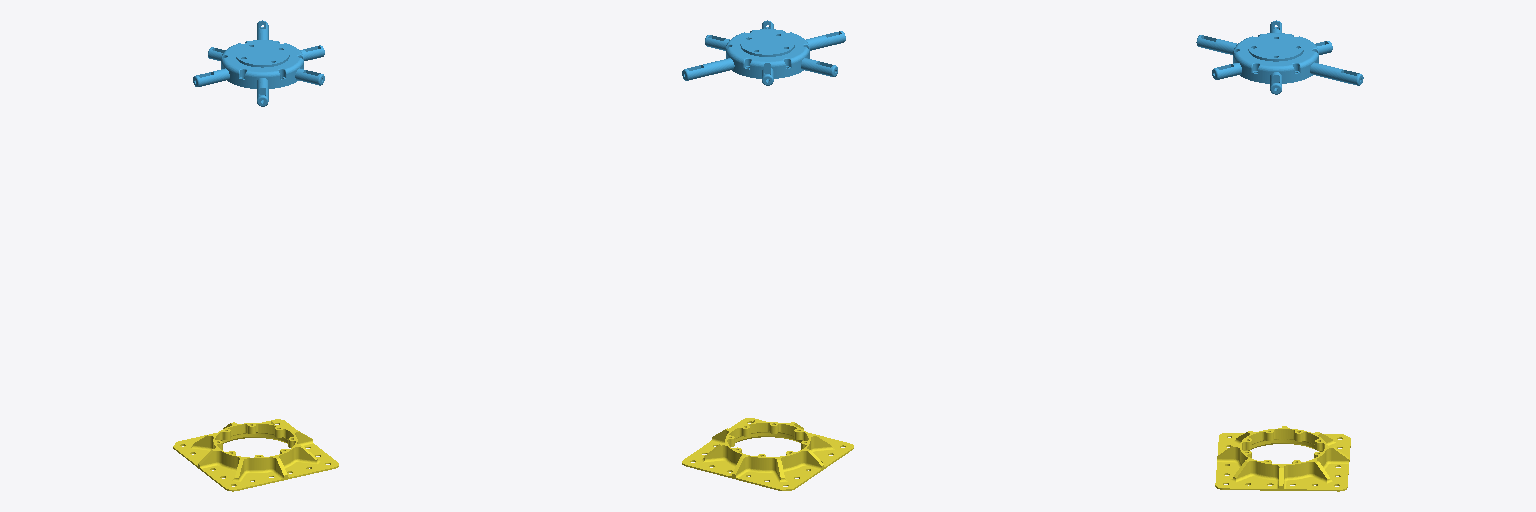
The robot description file, URDF, robot "locarm":
<?xml version="1.0" ?>
<!-- =================================================================================== -->
<!-- |    This document was autogenerated by xacro from vispa.xacro                    | -->
<!-- |    EDITING THIS FILE BY HAND IS NOT RECOMMENDED                                 | -->
<!-- =================================================================================== -->
<!--
   Copyright (C) [author] and Space Ltd - All Rights Reserved
   Written by [author] <[email redacted]>, January 2021

This is the master Locarm AD model file, in form of a XACRO macro.
To build the URDF file, invoke:
  rosrun xacro xacro.py locarm.xacro > locarm.urdf
  TODO: make this part of a build process
Joint FORs are consistent with LOCARM specification .
Joint FOR locations as well as arm dimensions have been cross-checked with arm specification.
Joint torques have been taken from arm specification.
Element masses have been taken from arm specification; inertia matrices have been generated with Meshlab (TODO).
(see http://gazebosim.org/tutorials?tut=inertia&cat=build_robot)
The file conforms to ros_industrial recommndations (TODO)
(see http://wiki.ros.org/Industrial/Tutorials/Create%20a%20URDF%20for%20an%20Industrial%20Robot)
 -->
<robot name="locarm" xmlns:xacro="http://www.ros.org/wiki/xacro">
  <!-- Xacro constants -->
  <!--Kg-->
  <!-- 1e-3 -->
  <!-- Xacro macros -->
  <!-- Include externals -->
  <!-- Import Gazebo-customization elements -->
  <!-- <xacro:include filename="$(find locarm_description)/urdf/locarm.gazebo" /> -->
  <!-- Standard ROS(-industrial) frames -->
  <!-- inertials not needed here -->
  <link name="base_link"/>
  <link name="base"/>
  <link name="world"/>
  <!-- <link name="tool0">
    <xacro:box_inertia mass="0.1" x="0.1" y="0.1" z="0.1" orig="0 0 0" />
  </link> -->
  <!-- Locarm links -->
  <link name="link0">
    <visual>
      <geometry>
        <mesh filename="package://vispa_description/meshes/LINK_BASE.stl" scale="0.001 0.001 0.001"/>
        <!-- Needed to scale as CAD exported in mm but rviz comsumes in SI units i.e. metres-->
      </geometry>
    </visual>
    <collision>
      <geometry>
        <mesh filename="package://vispa_description/meshes/LINK_BASE_col.stl" scale="0.001 0.001 0.001"/>
      </geometry>
    </collision>
    <inertial>
      <mass value="0.627"/>
      <inertia ixx="0.00281845585208" ixy="0" ixz="0" iyy="0.00281883333333" iyz="0" izz="0.00379978918542"/>
      <origin xyz="0 0 0.0"/>
    </inertial>
  </link>
  <link name="link1">
    <visual>
      <geometry>
        <mesh filename="package://vispa_description/meshes/LINK_0.stl" scale="0.001 0.001 0.001"/>
      </geometry>
    </visual>
    <collision>
      <geometry>
        <mesh filename="package://vispa_description/meshes/LINK_0_col.stl" scale="0.001 0.001 0.001"/>
      </geometry>
    </collision>
    <inertial>
      <mass value="1.5"/>
      <inertia ixx="0.00823683333333" ixy="0" ixz="0" iyy="0.00821708333333" iyz="0" izz="0.00234041666667"/>
      <origin xyz="0.0 -0.004173 0.032607"/>
    </inertial>
  </link>
  <link name="link2">
    <visual>
      <geometry>
        <mesh filename="package://vispa_description/meshes/LINK_1.stl" scale="0.001 0.001 0.001"/>
      </geometry>
    </visual>
    <collision>
      <geometry>
        <mesh filename="package://vispa_description/meshes/LINK_1_col.stl" scale="0.001 0.001 0.001"/>
      </geometry>
    </collision>
    <inertial>
      <mass value="2.5"/>
      <inertia ixx="0.0988689375" ixy="0" ixz="0" iyy="0.00683708333333" iyz="0" izz="0.0943525208333"/>
      <origin xyz="0.0 0.219495 0.063379"/>
    </inertial>
  </link>
  <link name="link3">
    <visual>
      <geometry>
        <mesh filename="package://vispa_description/meshes/LINK_2.stl" scale="0.001 0.001 0.001"/>
      </geometry>
    </visual>
    <collision>
      <geometry>
        <mesh filename="package://vispa_description/meshes/LINK_2_col.stl" scale="0.001 0.001 0.001"/>
      </geometry>
    </collision>
    <inertial>
      <mass value="1.863"/>
      <inertia ixx="0.00319248023008" ixy="0" ixz="0" iyy="0.00305781356342" iyz="0" izz="0.00170283333333"/>
      <origin xyz="0.0 0.003751 -0.066289"/>
    </inertial>
  </link>
  <link name="link4">
    <visual>
      <geometry>
        <mesh filename="package://vispa_description/meshes/LINK_3.stl" scale="0.001 0.001 0.001"/>
      </geometry>
    </visual>
    <collision>
      <geometry>
        <mesh filename="package://vispa_description/meshes/LINK_3_col.stl" scale="0.001 0.001 0.001"/>
      </geometry>
    </collision>
    <inertial>
      <mass value="2.16"/>
      <inertia ixx="0.0555065850083" ixy="0" ixz="0" iyy="0.0538596631441" iyz="0" izz="0.00269958148575"/>
      <origin xyz="-0.000267 0.040905 0.237073"/>
    </inertial>
  </link>
  <link name="link5">
    <visual>
      <geometry>
        <mesh filename="package://vispa_description/meshes/LINK_4.stl" scale="0.001 0.001 0.001"/>
      </geometry>
    </visual>
    <collision>
      <geometry>
        <mesh filename="package://vispa_description/meshes/LINK_4_col.stl" scale="0.001 0.001 0.001"/>
      </geometry>
    </collision>
    <inertial>
      <mass value="1.5"/>
      <inertia ixx="0.00242821141742" ixy="0" ixz="0" iyy="0.00212303984967" iyz="0" izz="0.00134496960042"/>
      <origin xyz="0.0 0.003134 0.063172"/>
    </inertial>
  </link>
  <link name="link6">
    <visual>
      <geometry>
        <mesh filename="package://vispa_description/meshes/LINK_5.stl" scale="0.001 0.001 0.001"/>
      </geometry>
    </visual>
    <collision>
      <geometry>
        <mesh filename="package://vispa_description/meshes/LINK_5_col.stl" scale="0.001 0.001 0.001"/>
      </geometry>
    </collision>
    <inertial>
      <mass value="1.7"/>
      <inertia ixx="0.00327423958542" ixy="0" ixz="0" iyy="0.00327403159742" iyz="0" izz="0.00180245867867"/>
      <origin xyz="0.000244 0.0 0.084854"/>
    </inertial>
  </link>
  <!-- Standard ROS(-industrial) and Gazebo joints -->
  <joint name="base_link-link0" type="fixed">
    <parent link="base_link"/>
    <child link="link0"/>
    <!-- <origin xyz="0 0 0" rpy="0 0 ${2*C_1_DEGREE}"/> -->
  </joint>
  <joint name="base_link-base" type="fixed">
    <parent link="base_link"/>
    <child link="base"/>
    <!-- <origin xyz="0 0 0" /> -->
  </joint>
  <joint name="world-base_link" type="fixed">
    <parent link="world"/>
    <child link="base_link"/>
    <!-- <origin xyz="0 0 0" /> -->
  </joint>
   --&gt;

  
  <!--<joint name="link6-tool0" type="fixed">
  	<parent link="link6" />
  	<child link="tool0" />
  	<origin xyz="0 0 0.1685" />
  </joint>
  -->
  <!-- LOCARM joints -->
  <joint name="j01" type="revolute">
    <axis xyz="0 0 1"/>
    <limit effort="50" lower="-3.14149265359" upper="3.14149265359" velocity="0.09395689"/>
    <parent link="link0"/>
    <child link="link1"/>
    <!-- Location of the link1 FOR in link0 FOR + compensation for as-built 0 position of the joint -->
    <!--origin xyz="0 0 0.105" /-->
    <origin rpy="0 0 0" xyz="0.0 0.0 0.0048"/>
    <dynamics damping="100"/>
  </joint>
  <joint name="j12" type="revolute">
    <axis xyz="0 -1 0"/>
    <limit effort="50" lower="-1.5707963268" upper="1.5707963268" velocity="0.09395689"/>
    <parent link="link1"/>
    <child link="link2"/>
    <!-- Location of the link2 FOR in link1 FOR + compensation for as-built 0 position of the joint -->
    <origin rpy="0 -1.5707963268 0" xyz="0.005 -0.075 0.135"/>
     --&gt;
    
    <dynamics damping="100"/>
  </joint>
  <joint name="j23" type="revolute">
    <axis xyz="0 1 0"/>
    <limit effort="50" lower="-3.14149265359" upper="3.14149265359" velocity="0.09395689"/>
    <parent link="link2"/>
    <child link="link3"/>
    <!-- Location of the link3 FOR in link2 FOR  + compensation for as-built 0 position of the joint -->
    <!--origin xyz="0 0.95 0.067" /-->
    <origin rpy="0 0 0" xyz="0.667 -0.022 0.0"/>
    <dynamics damping="100"/>
  </joint>
  <joint name="j34" type="revolute">
    <axis xyz="-1 0 0"/>
    <limit effort="50" lower="-3.14149265359" upper="3.14149265359" velocity="0.09395689"/>
    <parent link="link3"/>
    <child link="link4"/>
    <!-- Location of the link4 FOR in link3 FOR  + compensation for as-built 0 position of the joint -->
    <!-- origin xyz="0 0.0565 -0.127" rpy="${-C_PI_2} 0 0" /-->
    <origin rpy="0 0 0" xyz="-0.113 0.08 0.0"/>
    <dynamics damping="100"/>
  </joint>
  <joint name="j45" type="revolute">
    <axis xyz="0 1 0"/>
    <limit effort="50" lower="-3.14149265359" upper="3.14149265359" velocity="0.09395689"/>
    <parent link="link4"/>
    <child link="link5"/>
    <!-- Location of the link5 FOR in link4 FOR + compensation for as-built 0 position of the joint -->
    <!-- origin xyz="0 0.0455 0.7635" rpy="${C_PI_2} 0 0" /-->
    <origin rpy="0 0 0" xyz="-0.435 0.03 0.0"/>
    <dynamics damping="100"/>
  </joint>
  <joint name="j56" type="revolute">
    <axis xyz="0 0 -1"/>
    <limit effort="50" lower="-3.14149265359" upper="3.14149265359" velocity="0.09395689"/>
    <parent link="link5"/>
    <child link="link6"/>
    <!-- Location of the link6 FOR in link5 FOR + compensation for as-built 0 position of the joint -->
    <origin rpy="0 1.5707963268 0" xyz="0.237 -0.021 0.0"/>
    <dynamics damping="100"/>
  </joint>
  <!-- Transmissions (ros_control) -->
  <transmission name="j01_t">
    <type>transmission_interface/SimpleTransmission</type>
    <joint name="j01">
      <hardwareInterface>EffortJointInterface</hardwareInterface>
    </joint>
    <actuator name="motor_j01">
      <mechanicalReduction>1</mechanicalReduction>
    </actuator>
  </transmission>
  <transmission name="j12_t">
    <type>transmission_interface/SimpleTransmission</type>
    <joint name="j12">
      <hardwareInterface>EffortJointInterface</hardwareInterface>
    </joint>
    <actuator name="motor_j12">
      <mechanicalReduction>1</mechanicalReduction>
    </actuator>
  </transmission>
  <transmission name="j23_t">
    <type>transmission_interface/SimpleTransmission</type>
    <joint name="j23">
      <hardwareInterface>EffortJointInterface</hardwareInterface>
    </joint>
    <actuator name="motor_j23">
      <mechanicalReduction>1</mechanicalReduction>
    </actuator>
  </transmission>
  <transmission name="j34_t">
    <type>transmission_interface/SimpleTransmission</type>
    <joint name="j34">
      <hardwareInterface>EffortJointInterface</hardwareInterface>
    </joint>
    <actuator name="motor_j34">
      <mechanicalReduction>1</mechanicalReduction>
    </actuator>
  </transmission>
  <transmission name="j45_t">
    <type>transmission_interface/SimpleTransmission</type>
    <joint name="j45">
      <hardwareInterface>EffortJointInterface</hardwareInterface>
    </joint>
    <actuator name="motor_j45">
      <mechanicalReduction>1</mechanicalReduction>
    </actuator>
  </transmission>
  <transmission name="j56_t">
    <type>transmission_interface/SimpleTransmission</type>
    <joint name="j56">
      <hardwareInterface>EffortJointInterface</hardwareInterface>
    </joint>
    <actuator name="motor_j56">
      <mechanicalReduction>1</mechanicalReduction>
    </actuator>
  </transmission>
</robot>

--- What the picture shows (computed from the rendered views, not written in the file) ---
The picture shows the robot from 3 angles, left to right: view 1: azimuth 30°, elevation 25°; view 2: azimuth 150°, elevation 25°; view 3: azimuth 270°, elevation 25°; orthographic projection.
Robot: locarm — 10 links, 9 joints (6 revolute, 3 fixed); root link world; default pose: all joints at 0.
Links seen in each view (by area): view 1: link0, link6; view 2: link0, link6; view 3: link0, link6.
Boxes of the visible links, x1=… form: link0: x1=173, y1=419, x2=338, y2=491; link6: x1=193, y1=20, x2=324, y2=106; link0: x1=682, y1=418, x2=853, y2=490; link6: x1=682, y1=20, x2=845, y2=85; link0: x1=1215, y1=426, x2=1350, y2=491; link6: x1=1196, y1=20, x2=1363, y2=94.
Bounding box of the posed robot: 0.171 × 0.1883 × 0.5188 m (x, y, z).
Meshes: 7 distinct files referenced, 2 mesh visuals loaded (2 binary STL); not drawn: 5 (reference not matched to a file when rendering).